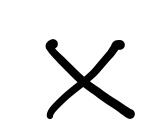mult: (46, 39, 135, 120)
